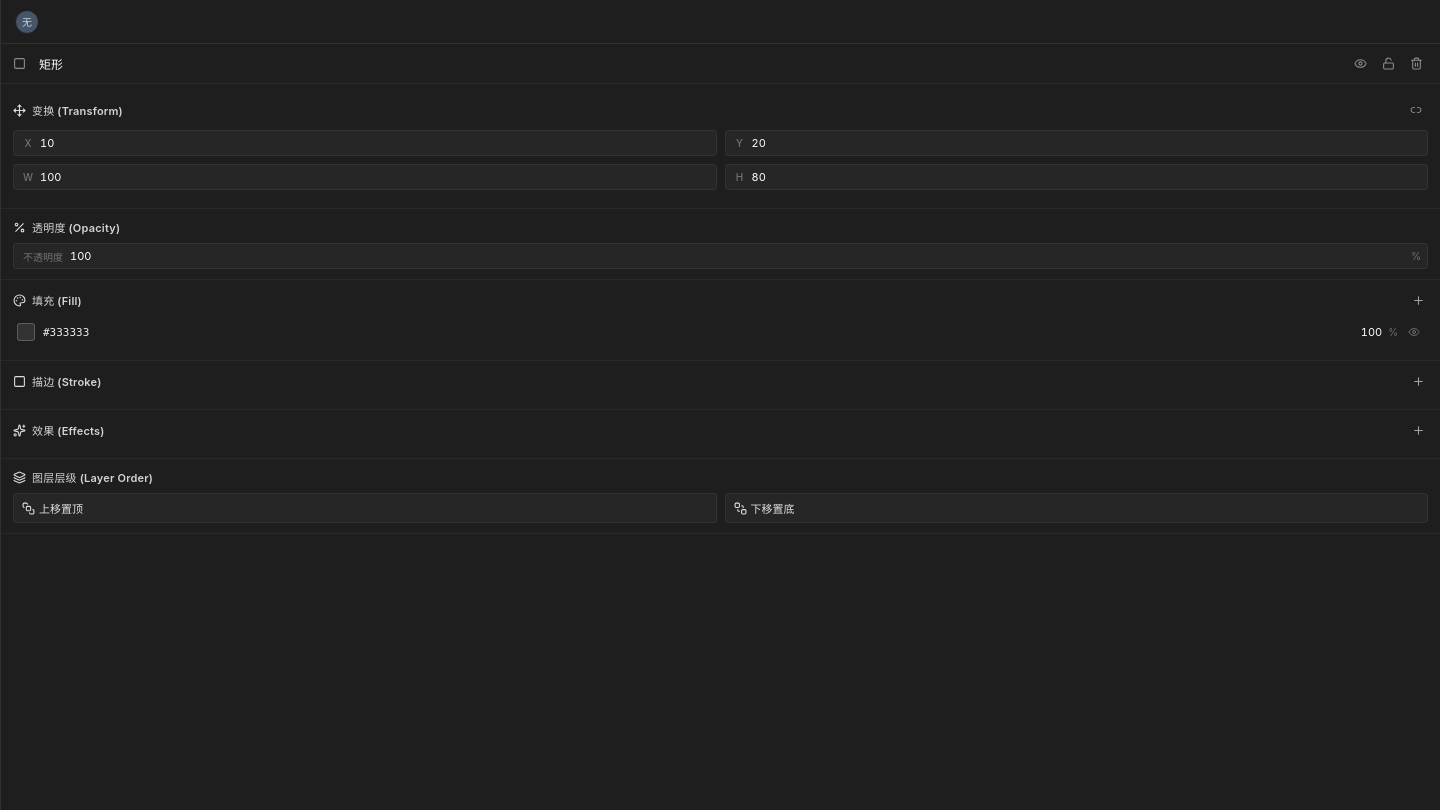
it: InspectorPanel › previews numeric edits until blur and restores the original size with one undo
This screenshot has width=1440, height=810.
Replace the text in the number field named "宽度" with "140" at (375, 177), box [40,170,710,184]
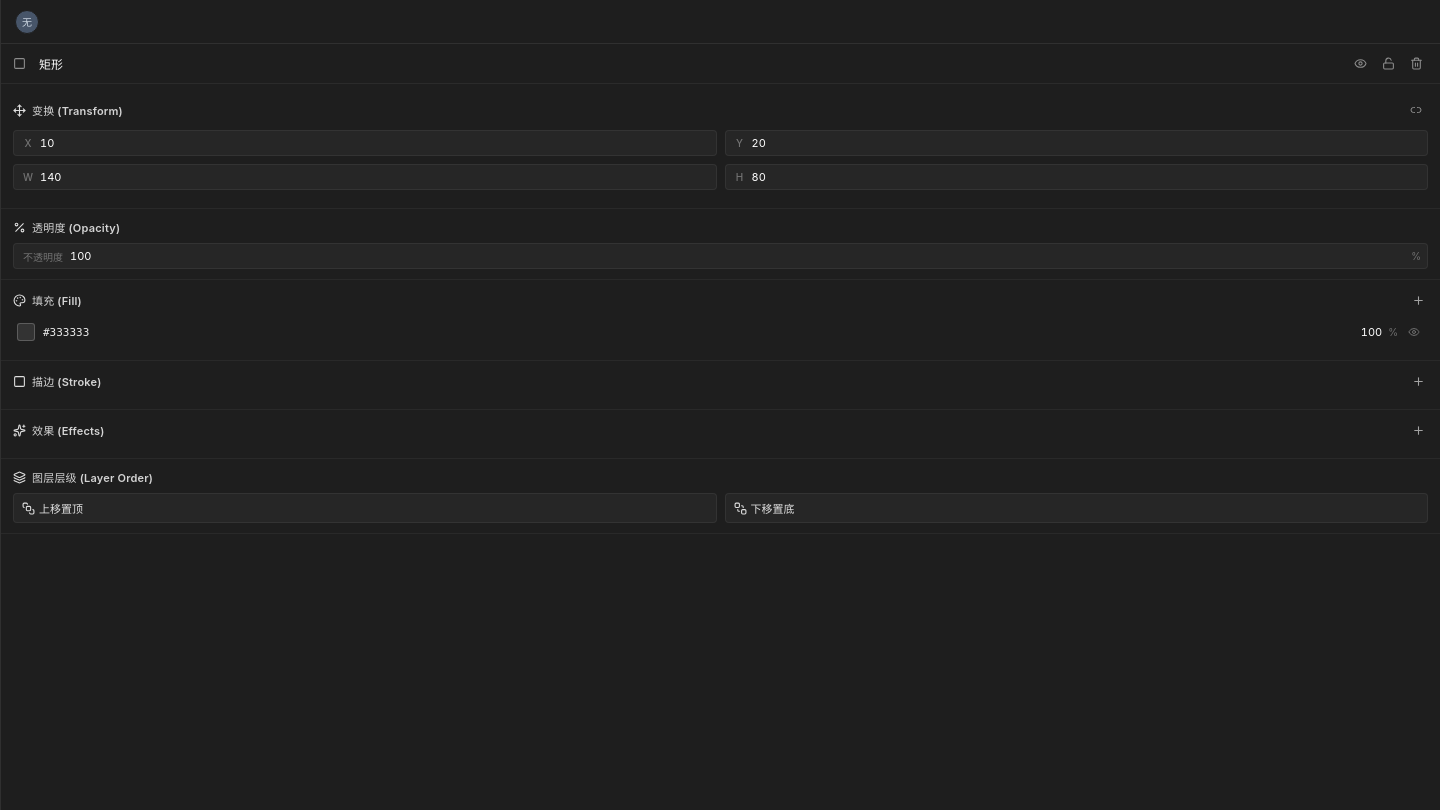
Replace the text in the number field named "宽度" with "180" at (375, 177), box [40,170,710,184]
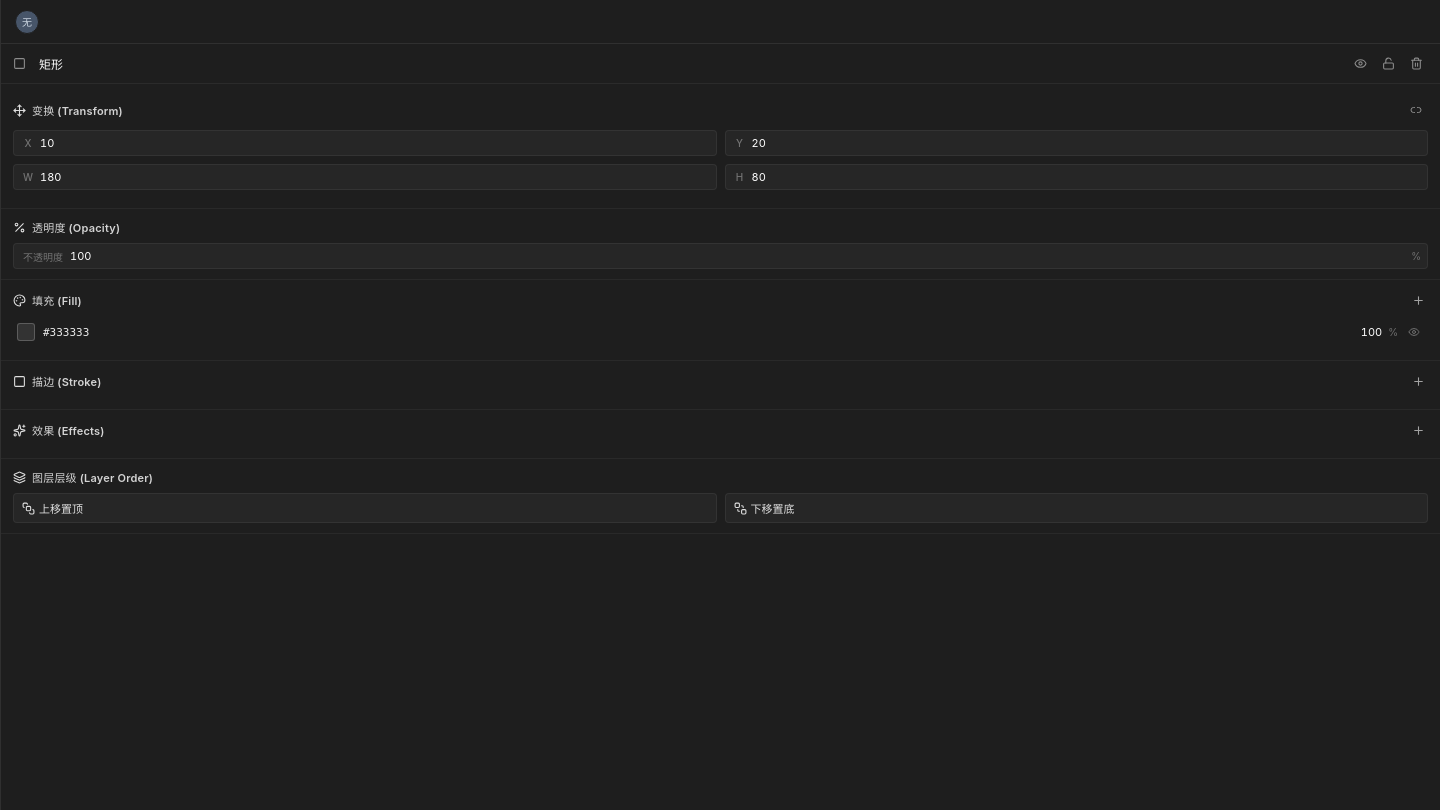
Leave the number field named "宽度", box [40,170,710,184]
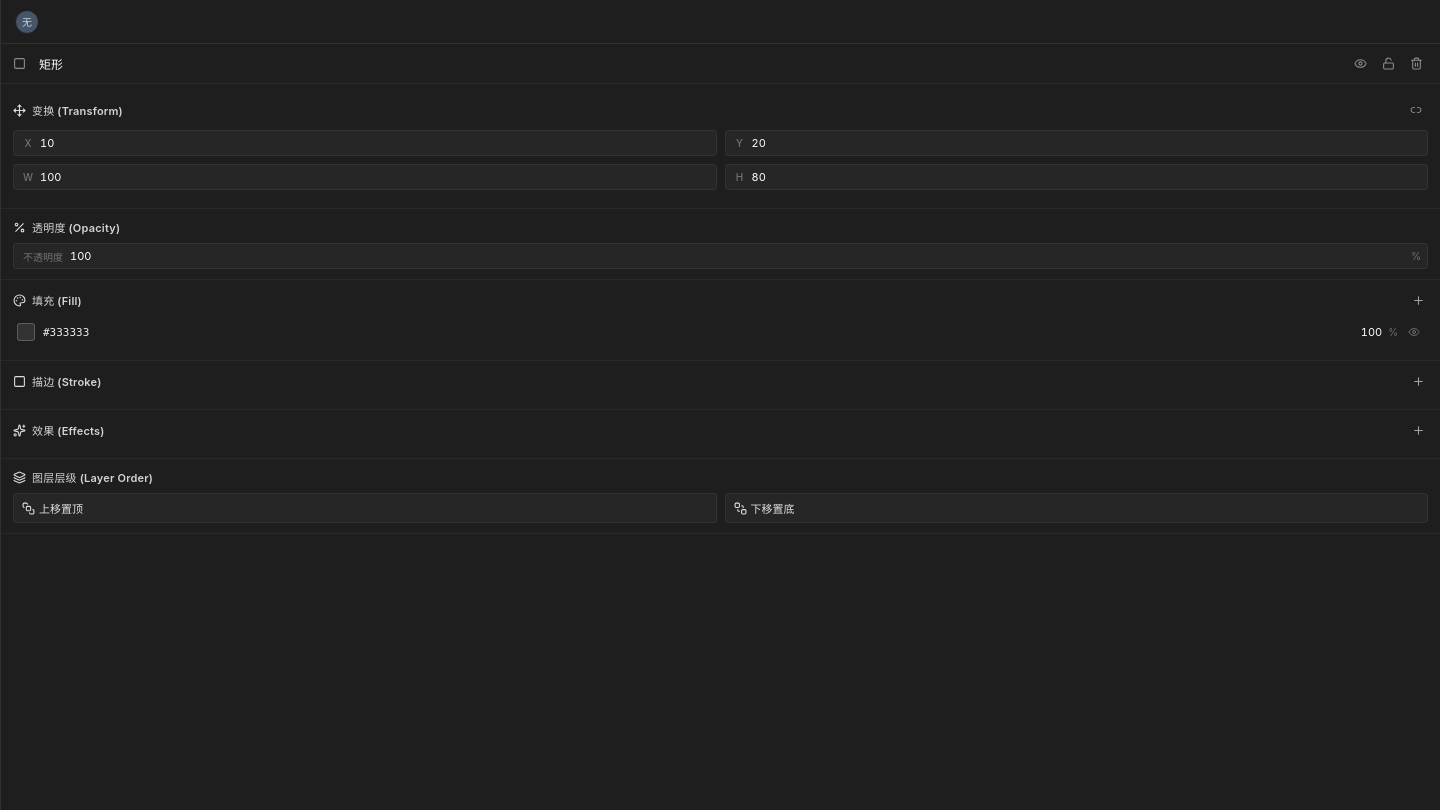
Check: the number field named "宽度" holds "100", box [40,170,710,184]
